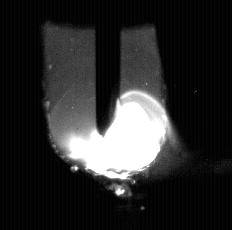arame: (95, 0, 117, 138)
poca: (58, 0, 172, 230)
